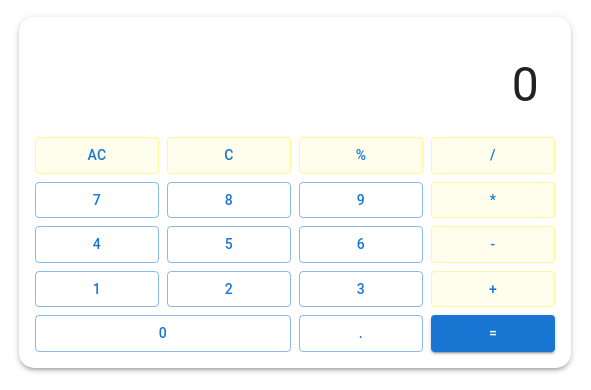
Scenario: Calculator App tests › Does division correctly
Click the button "1".
click(97, 289)  # box left=35, top=270, right=159, bottom=307
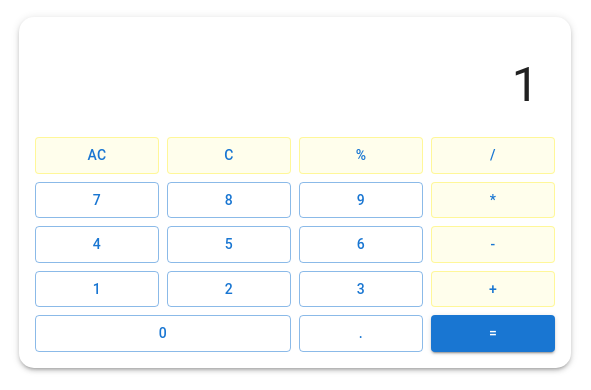
Click the button "0".
click(163, 333)  # box left=35, top=315, right=291, bottom=352
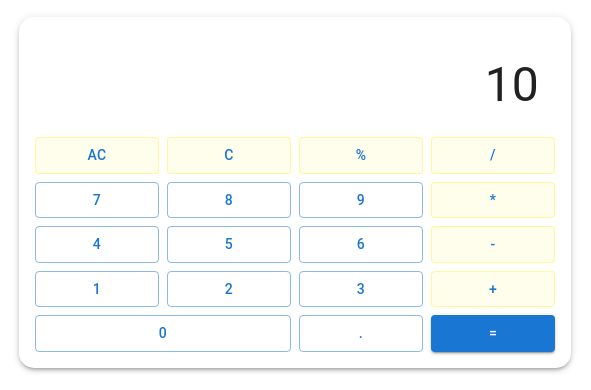
Click the button "/".
click(493, 155)  # box left=431, top=137, right=555, bottom=174
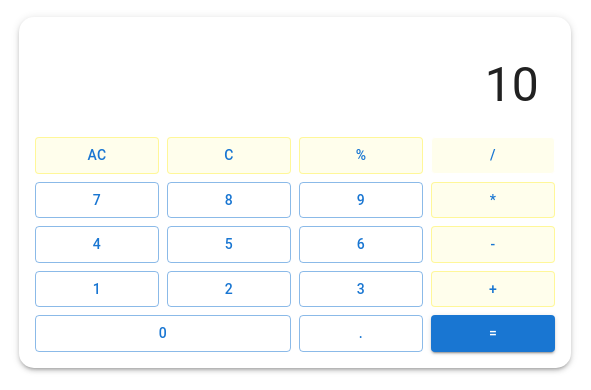
Click the button "5".
click(229, 244)  # box left=167, top=226, right=291, bottom=262
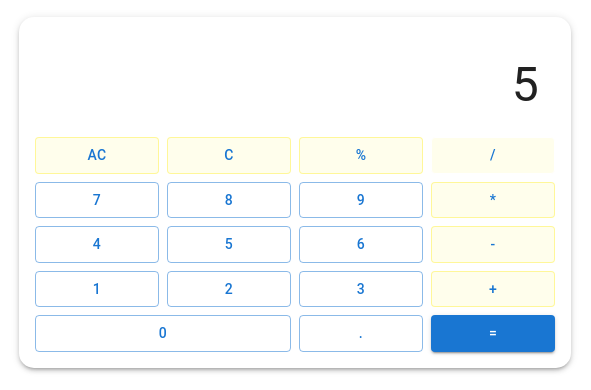
Click the button "=".
click(493, 333)  # box left=431, top=315, right=555, bottom=352
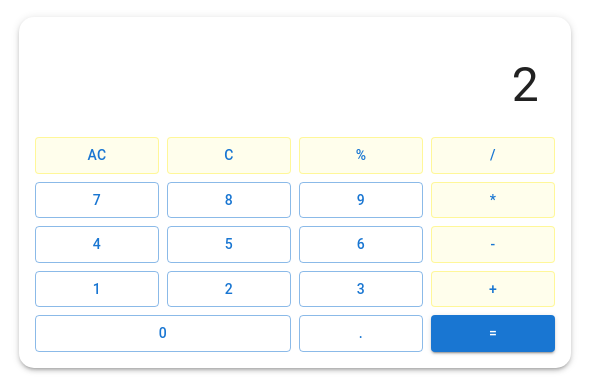
Expected: the text with test id "output" reads "2", left=512, top=56, right=539, bottom=113
